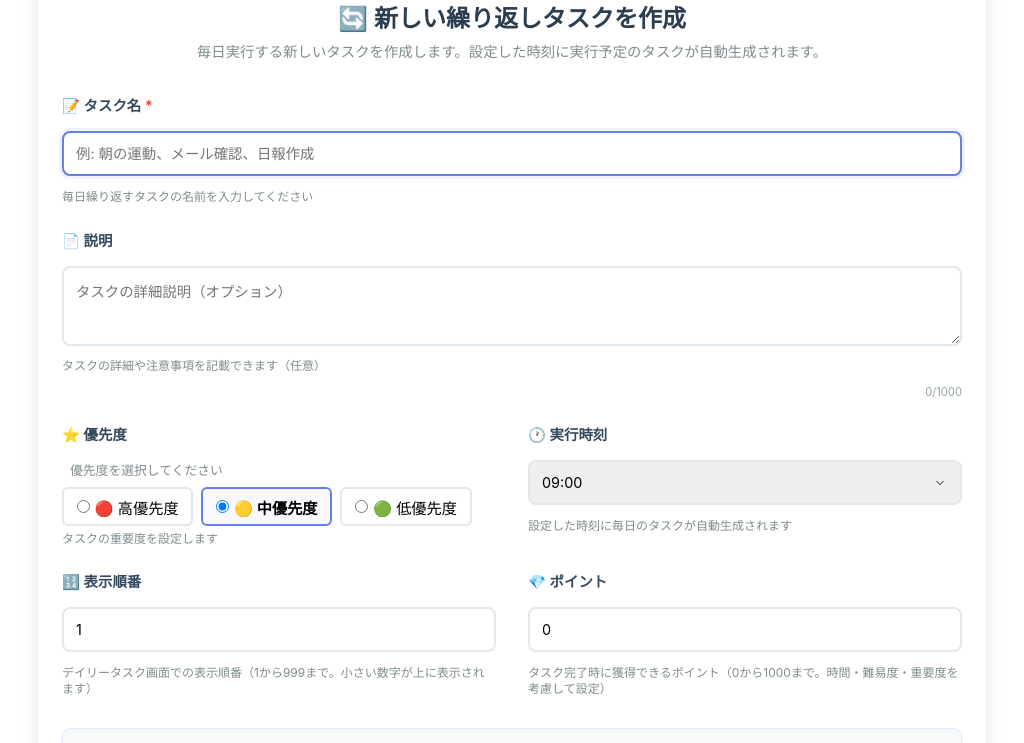
Test case: RecurringTaskForm › バリデーション › HTMLタグが含まれる場合、エラーメッセージが表示される
Type "<script>alert(\"test\")</script>" into the field labelled "📝 タスク名 *" at (512, 154), box [62, 131, 962, 176]
(page scrolled)
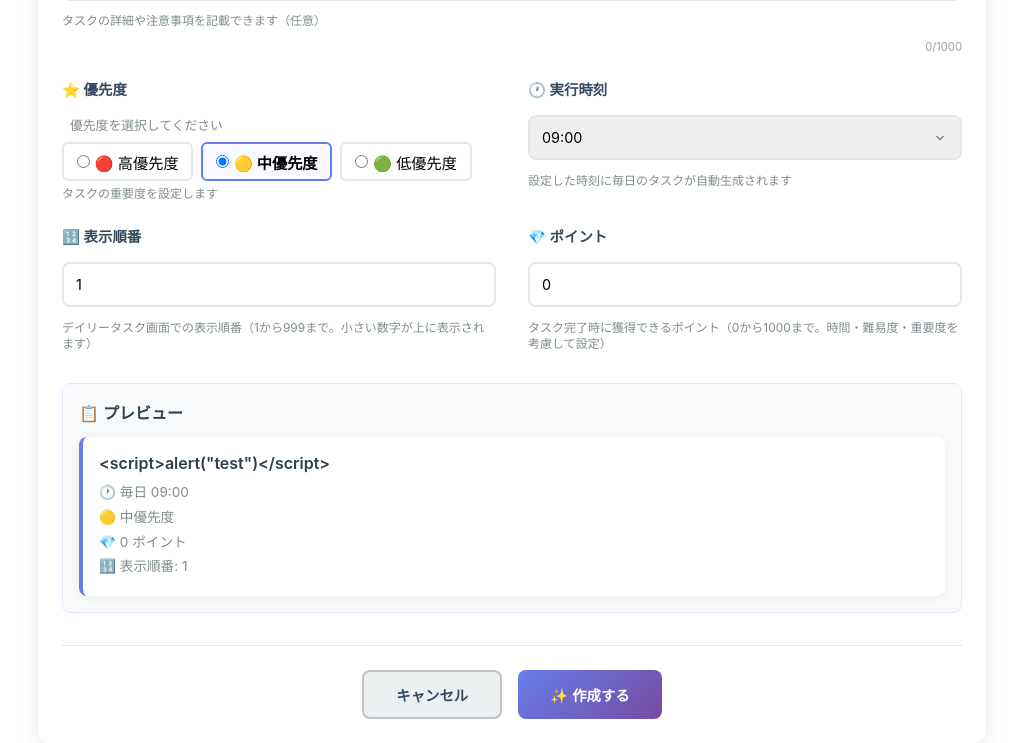
Click the button "✨ 作成する" at (590, 695), box [518, 670, 662, 719]
(page scrolled)
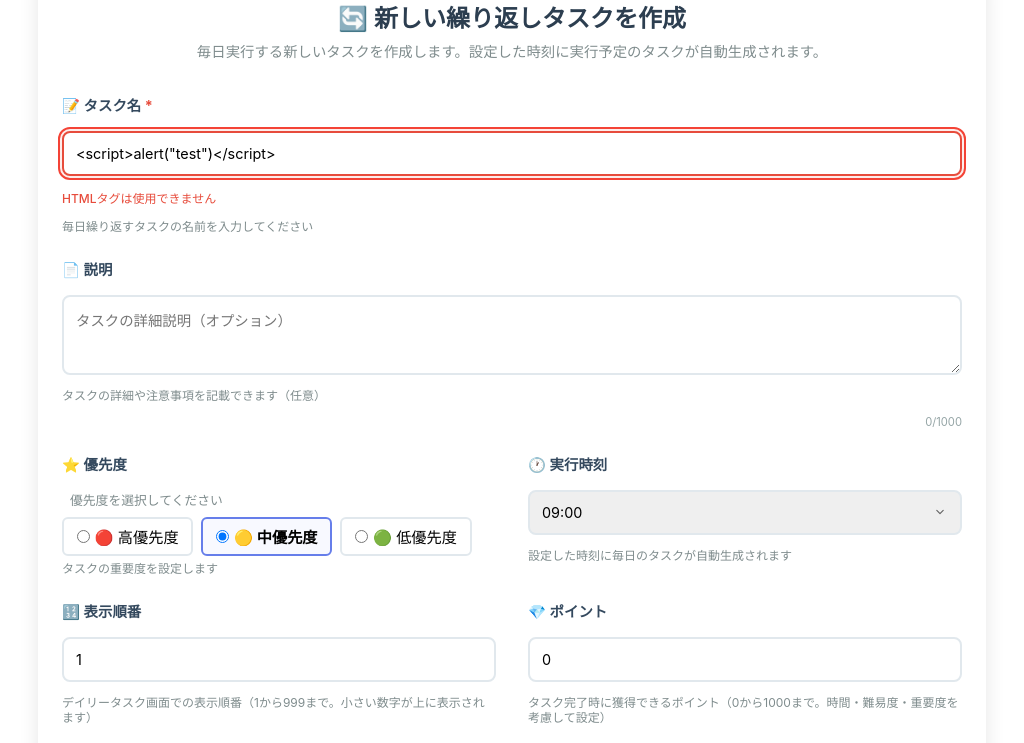
Expected: the message reads "HTMLタグは使用できません", [62, 191, 216, 206]
